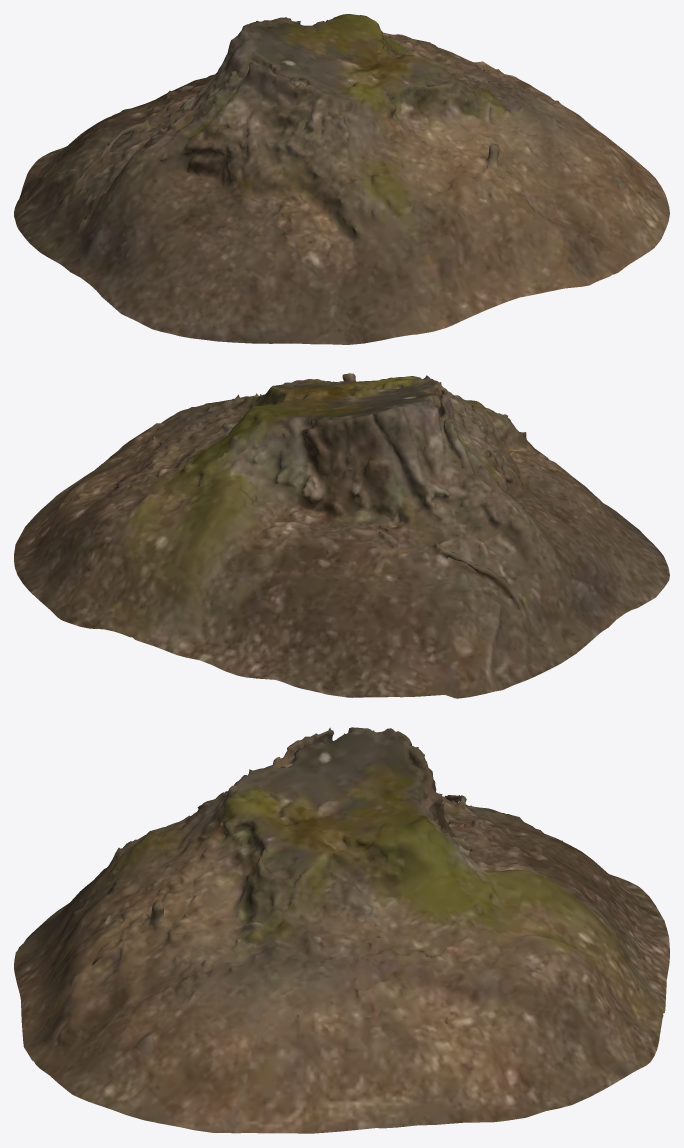
Rendered from tree_stump_02_lod1.glb.
3 renders of one model, top to bottom at view 1: azimuth 30°, elevation 25°; view 2: azimuth 150°, elevation 25°; view 3: azimuth 270°, elevation 25°, orthographic. The views are drawn at different scales.
Visible parts, largest first — view 1: tree_stump_02; view 2: tree_stump_02; view 3: tree_stump_02.
Part boxes in pixels (x1,y1,x2,y2): tree_stump_02: (14,14,669,344); tree_stump_02: (14,373,669,698); tree_stump_02: (14,727,669,1133).
Bounding box in the file's own units: 1.52 × 0.522 × 1.39.
1 material, 1 textured.
